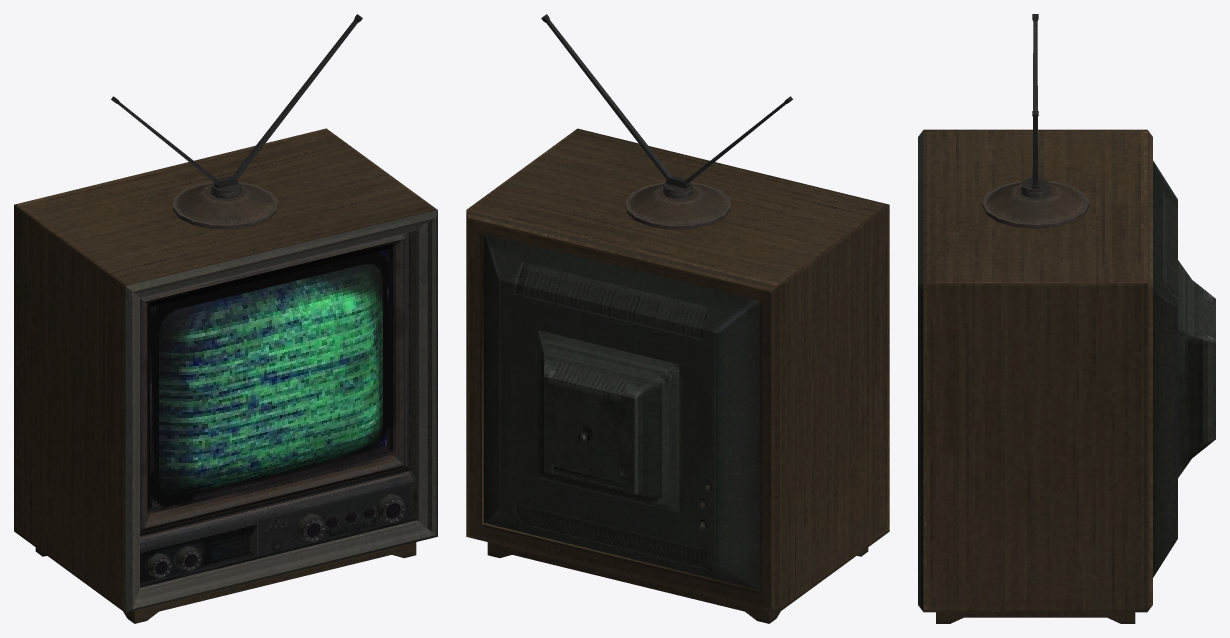
The model's file is teleestatica.glb.
3 renders of one model, left to right at view 1: azimuth 30°, elevation 25°; view 2: azimuth 150°, elevation 25°; view 3: azimuth 270°, elevation 25°, orthographic.
Parts seen in each view (by area): view 1: tv_mp_1_1; view 2: tv_mp_1_1; view 3: tv_mp_1_1.
Boxes of the visible parts, <box> form: tv_mp_1_1: <box>14,14,437,623</box>; tv_mp_1_1: <box>466,14,889,623</box>; tv_mp_1_1: <box>918,14,1215,623</box>.
Bounding box in the file's own units: 0.51 × 0.7893 × 0.4183.
Materials: 2 (2 with a texture image).
